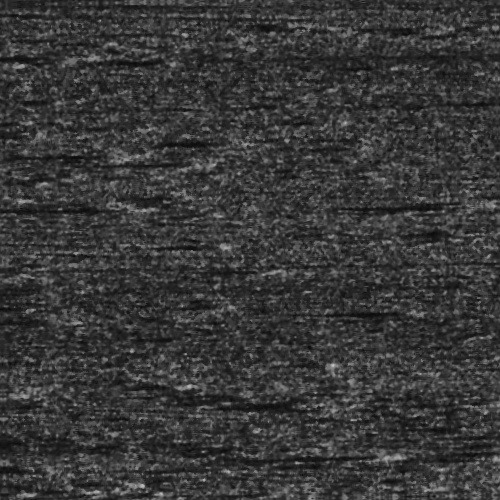object: (101, 135, 132, 168), (330, 452, 413, 459), (199, 238, 240, 249), (458, 205, 489, 210), (122, 202, 153, 207), (19, 54, 50, 57), (398, 312, 419, 315)
shadow: (0, 135, 116, 168), (218, 452, 371, 459), (133, 238, 219, 249), (4, 202, 137, 207), (359, 205, 474, 210), (96, 159, 225, 162), (291, 312, 408, 315), (0, 54, 35, 57)
